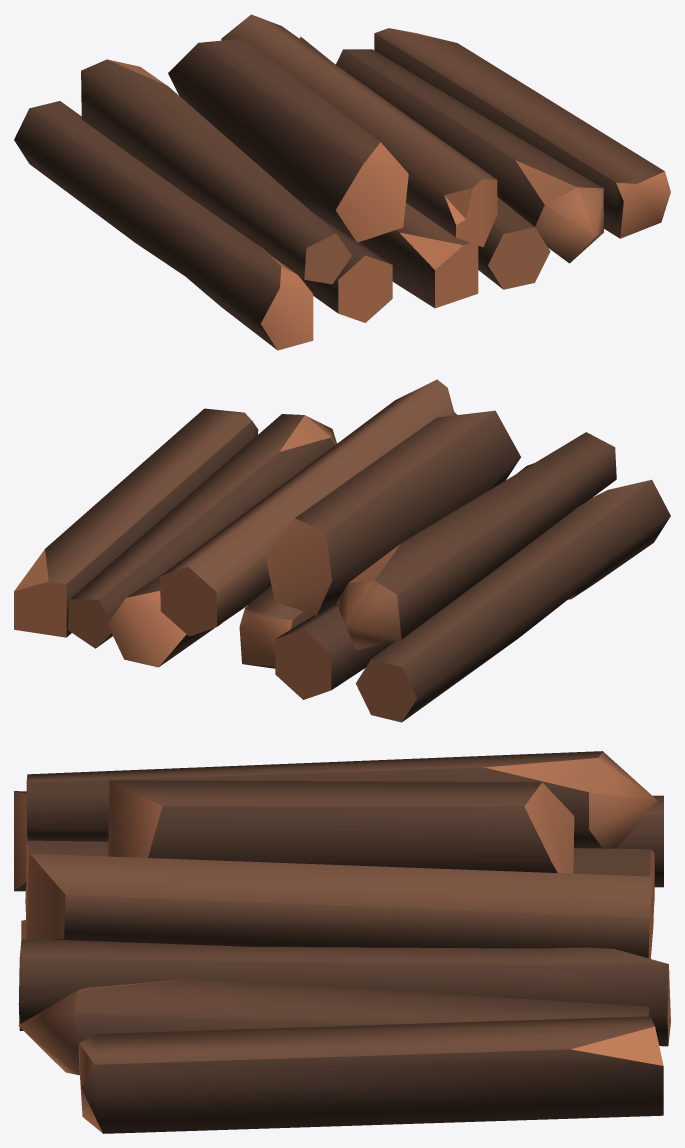
Rendered from Wood_Pile_1A.fbx.
The picture shows the model from 3 angles, top to bottom: view 1: azimuth 30°, elevation 25°; view 2: azimuth 150°, elevation 25°; view 3: azimuth 270°, elevation 25°; orthographic projection. The views are drawn at different scales.
Parts seen in each view (by area): view 1: Wood_Pile_1A; view 2: Wood_Pile_1A; view 3: Wood_Pile_1A.
Part boxes in pixels (x1,y1,x2,y2): Wood_Pile_1A: [14, 14, 670, 350]; Wood_Pile_1A: [14, 379, 670, 722]; Wood_Pile_1A: [14, 751, 670, 1133].
Bounding box in the file's own units: 192 × 56.18 × 193.
